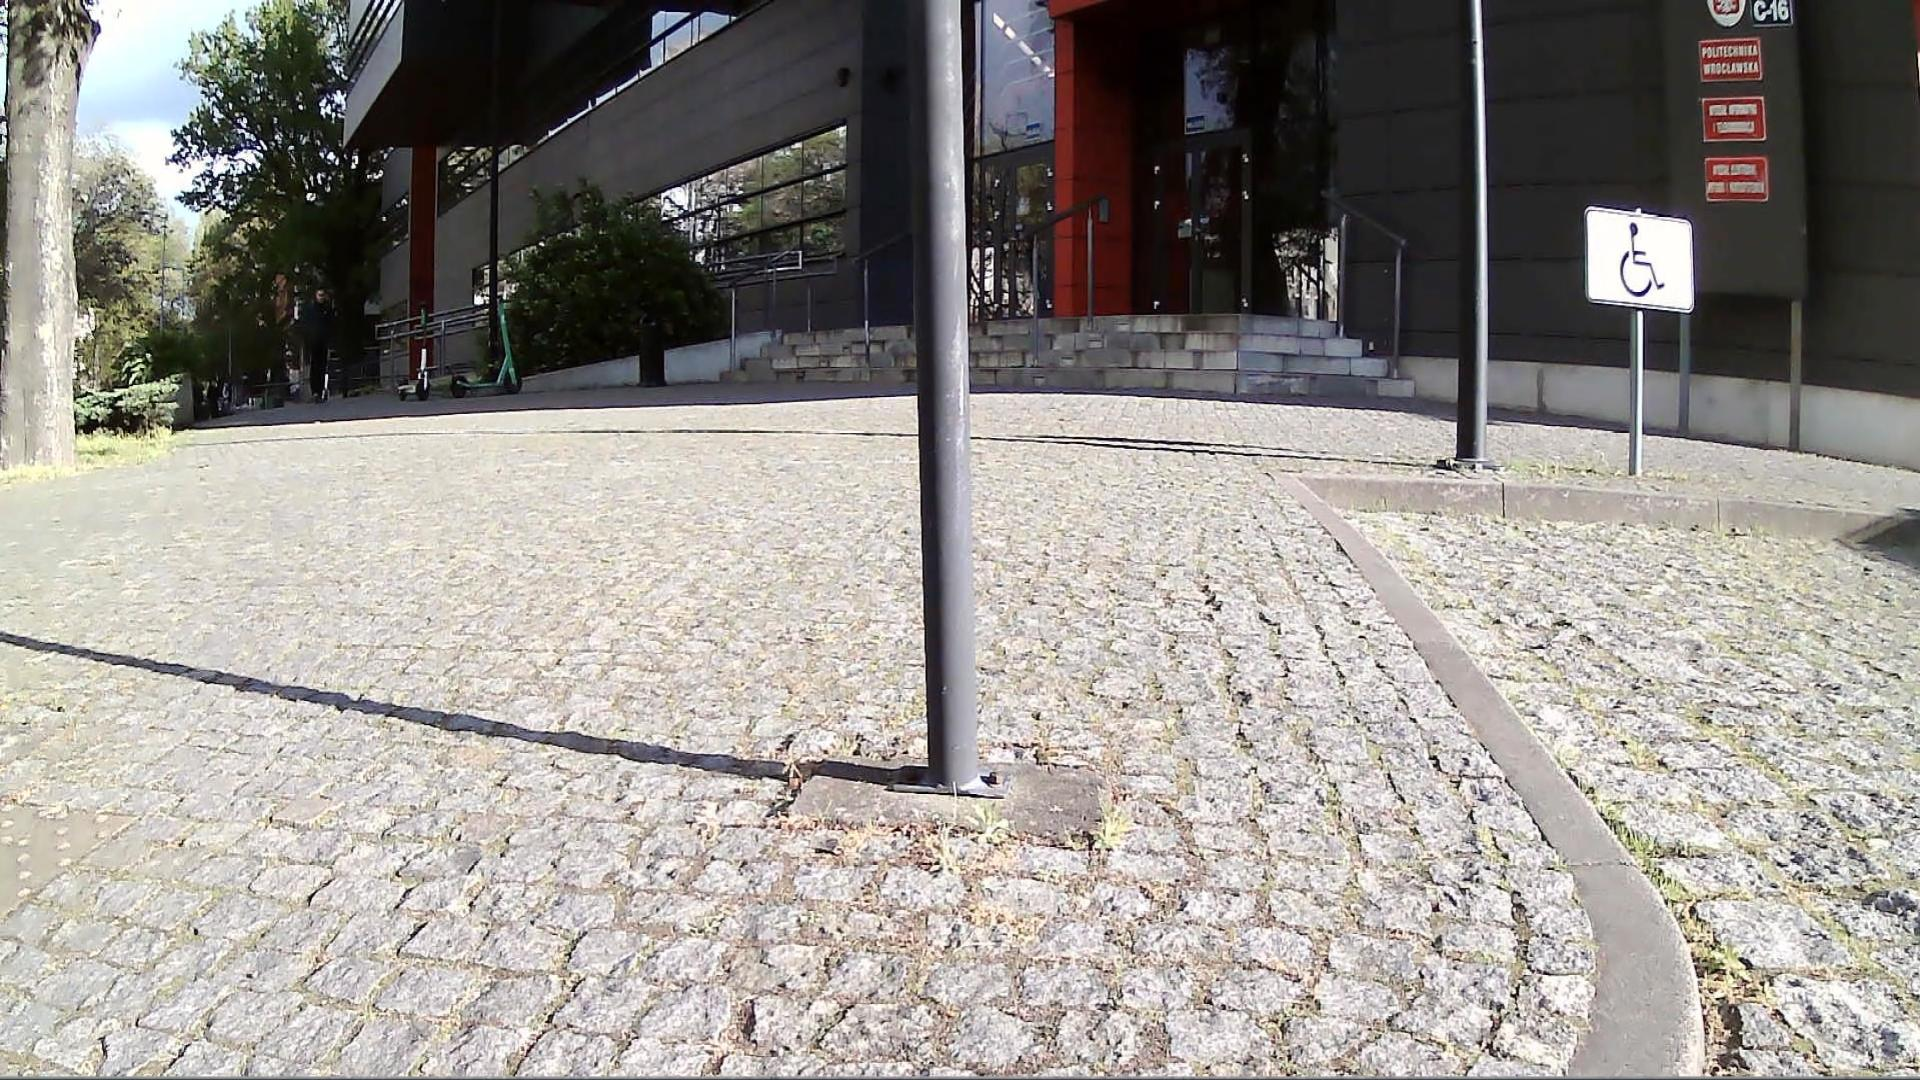bollards: (869, 0, 1029, 811)
